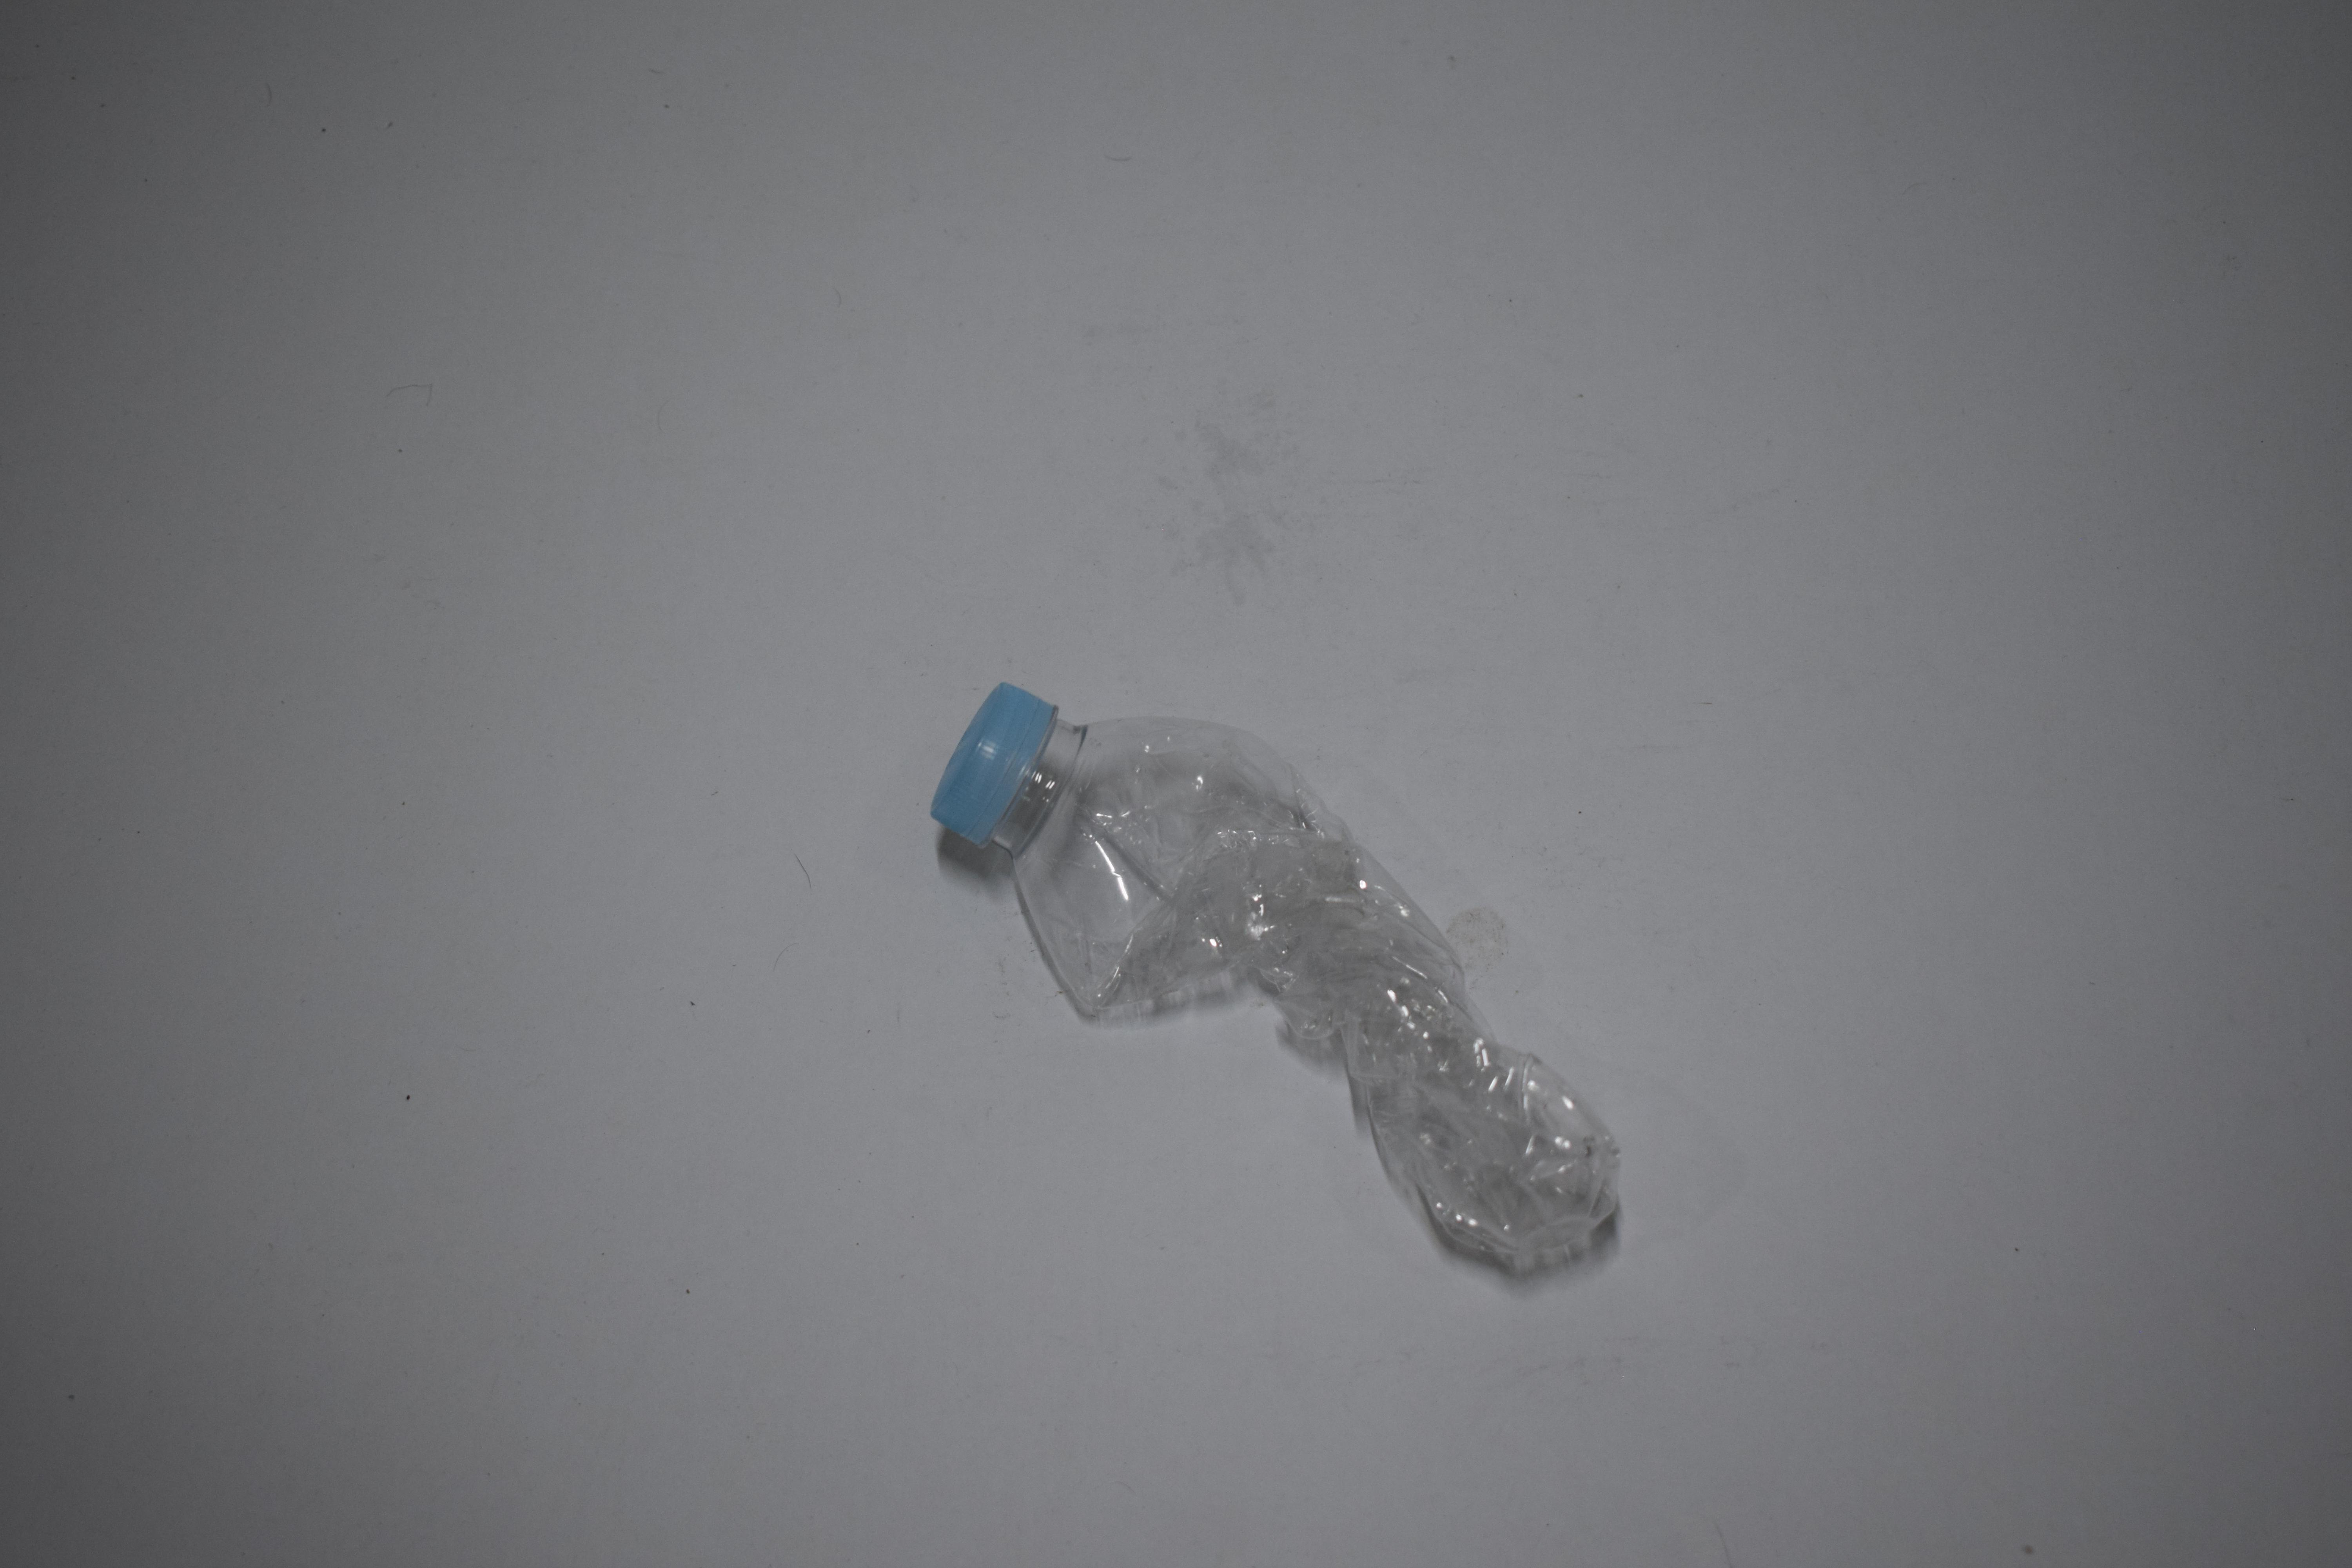bottle: (0, 670, 451, 1281)
